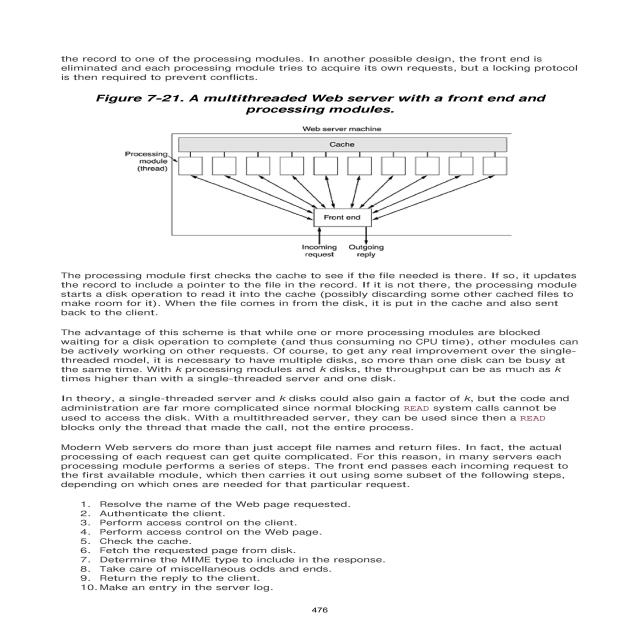diagram: (71, 86, 584, 263)
